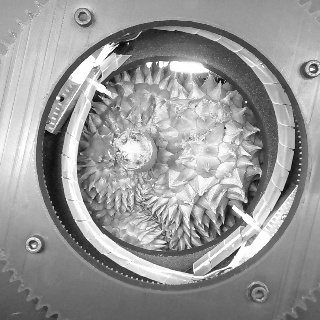base: (106, 134, 166, 178)
end: (113, 130, 153, 171)
